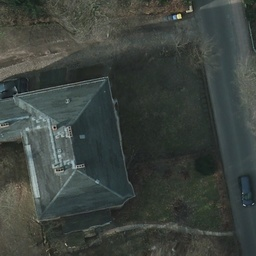car: (237, 170, 256, 206)
